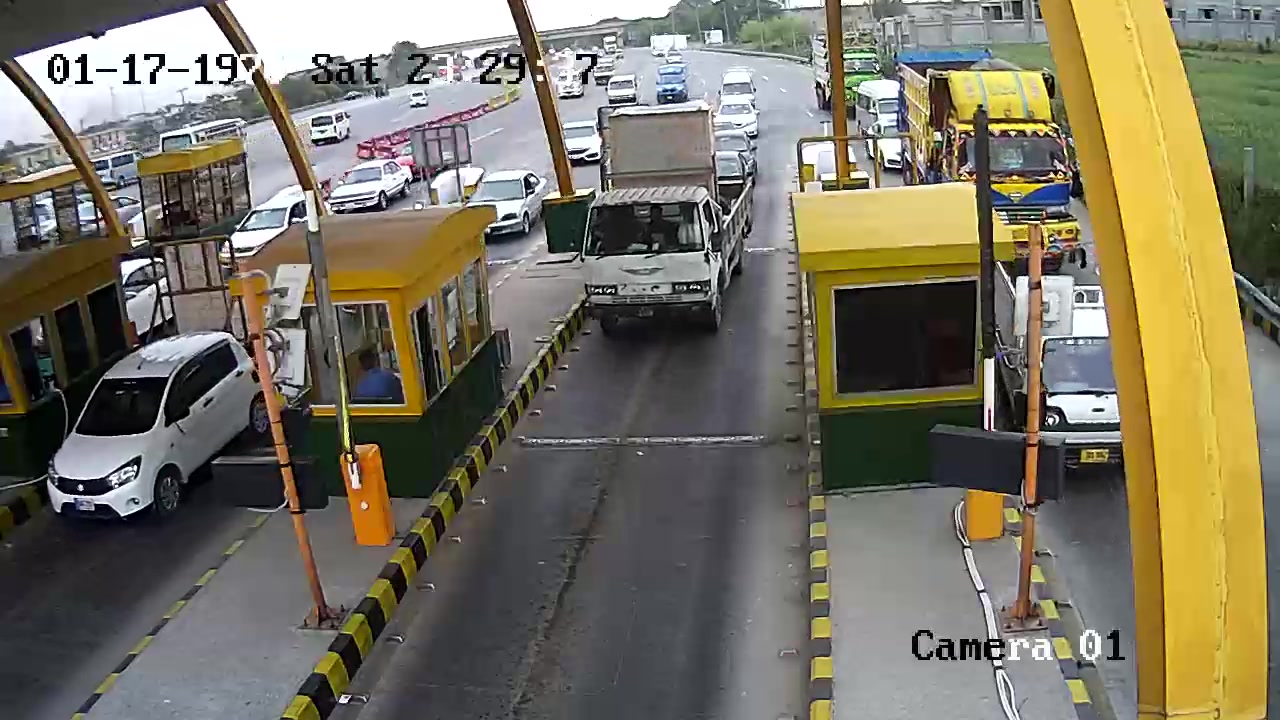F3: (576, 102, 761, 338)
